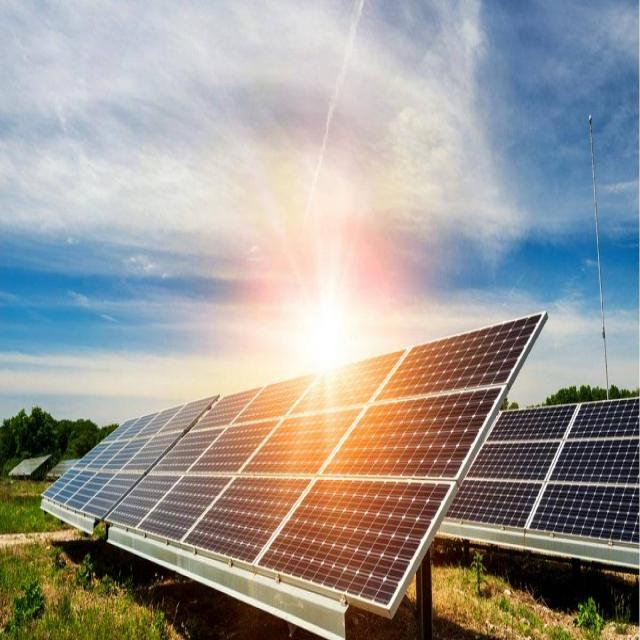clean-solar-panel: (43, 316, 541, 609), (442, 399, 640, 542)
